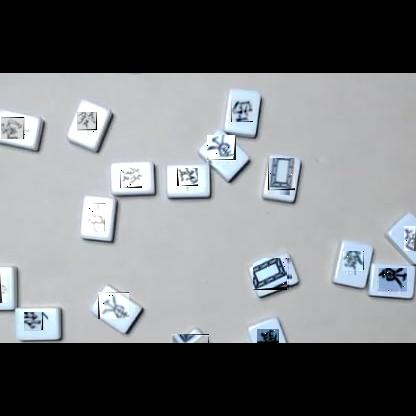1z: (207, 136, 236, 165), (98, 292, 129, 319), (378, 269, 407, 295)
2z: (2, 117, 29, 139), (404, 226, 416, 251)
3z: (231, 99, 253, 122), (177, 169, 198, 191)
4z: (25, 313, 48, 335)
5z: (254, 258, 292, 290), (268, 159, 295, 195), (172, 334, 209, 343)
6z: (120, 166, 142, 188), (343, 252, 364, 275), (77, 113, 97, 135), (257, 329, 279, 343)
7z: (86, 203, 105, 231), (0, 271, 7, 303)
